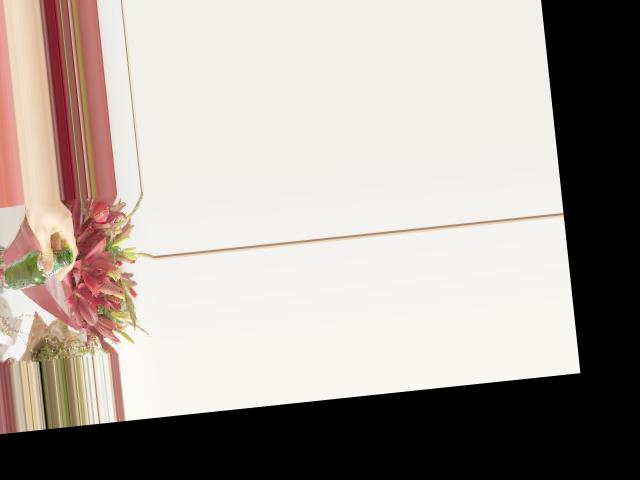beer: (2, 245, 75, 290)
